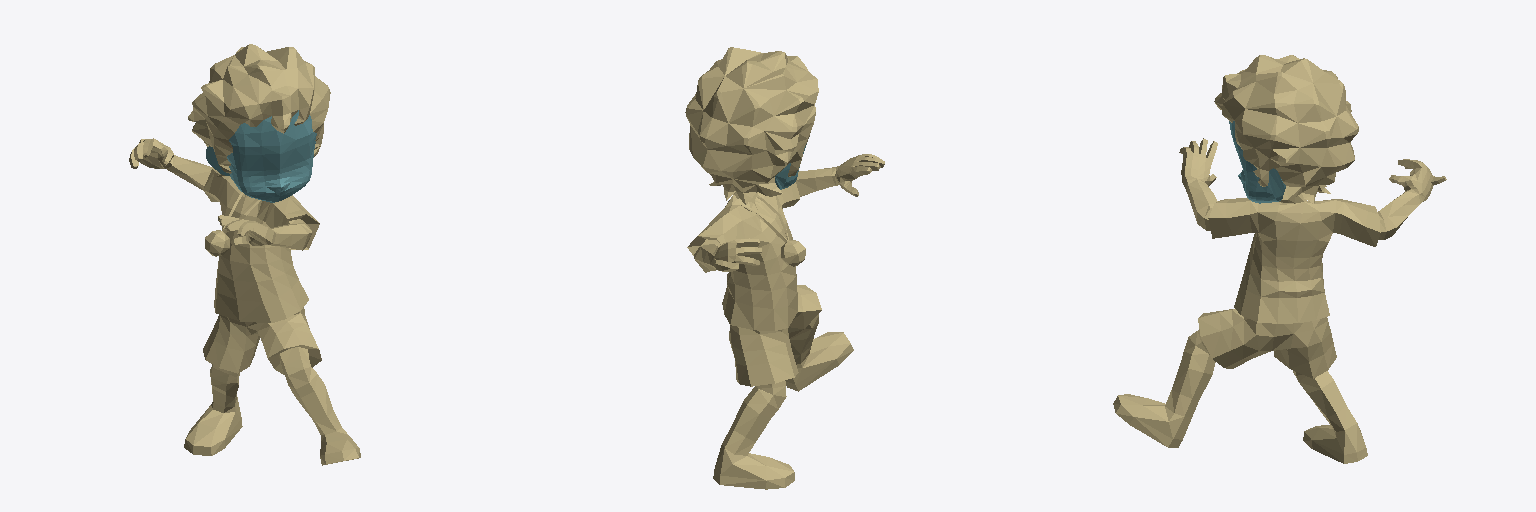
Rendered from T_Youngster.mtl.obj.
3 views of the same model, side by side, from view 1: azimuth 30°, elevation 25°; view 2: azimuth 150°, elevation 25°; view 3: azimuth 270°, elevation 25° (orthographic).
Parts seen in each view (by area): view 1: tr0077_00; view 2: tr0077_00; view 3: tr0077_00.
Boxes of the visible parts, box(x1,y1,x2,y2) form: tr0077_00: box(129, 44, 360, 465); tr0077_00: box(685, 47, 884, 489); tr0077_00: box(1113, 55, 1446, 463).
Bounding box in the file's own units: 1.83 × 4.79 × 3.6.